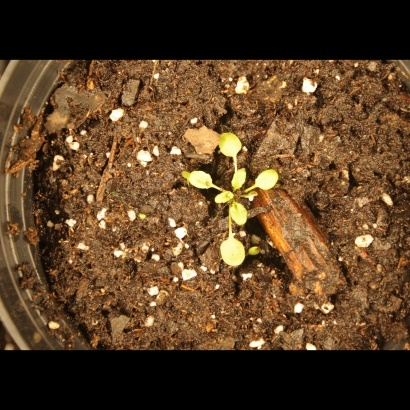leaf: (213, 230, 252, 279), (214, 130, 248, 162), (181, 163, 213, 194), (251, 167, 284, 197), (226, 204, 255, 230), (226, 166, 253, 192), (211, 189, 234, 212)
